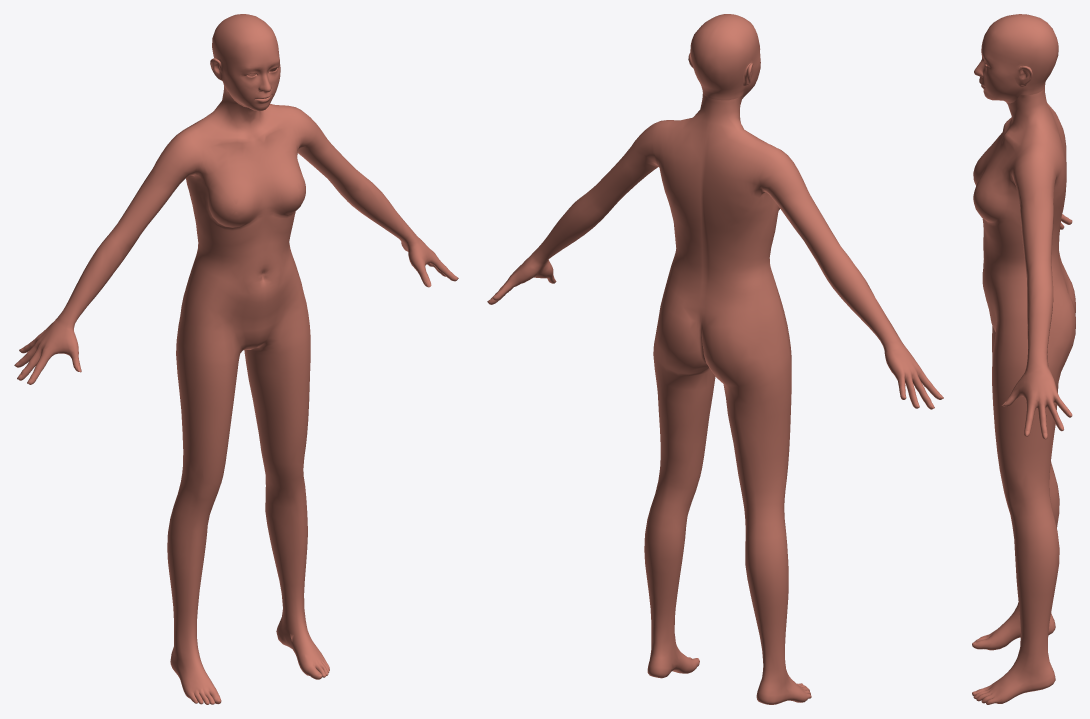
Rendered from 标准人体模型.FBX.
The picture shows the model from 3 angles, left to right: view 1: azimuth 30°, elevation 25°; view 2: azimuth 150°, elevation 25°; view 3: azimuth 270°, elevation 25°; orthographic projection. The views are drawn at different scales.
Visible parts, largest first — view 1: women_body, head; view 2: women_body, head; view 3: women_body, head, ear.
Boxes of the visible parts, x1,y1,x2,y2 form: women_body: (15, 87, 457, 704); head: (212, 14, 280, 111); women_body: (488, 94, 941, 704); head: (690, 14, 760, 100); women_body: (972, 87, 1075, 704); head: (974, 14, 1058, 103); ear: (1014, 64, 1032, 86).
Size of the model in its own units: 1.28 by 1.85 by 0.2659.
